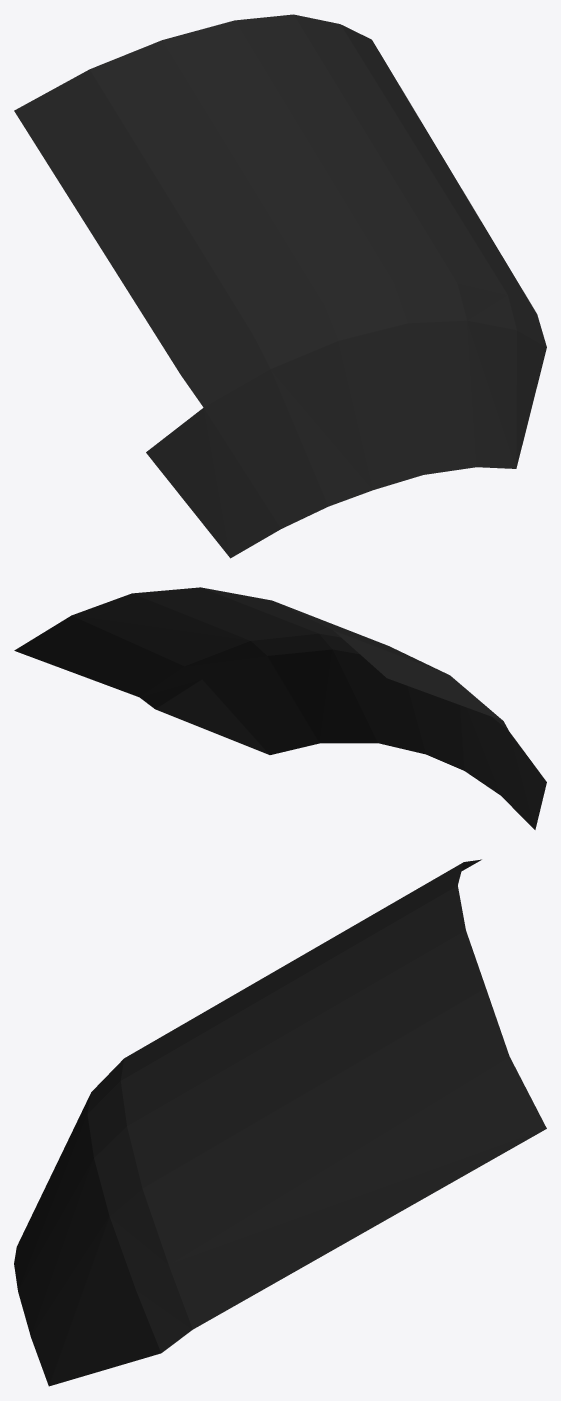
File: T_Lower_Right_2-41811333.glb
The picture shows the model from 3 angles, top to bottom: view 1: azimuth 30°, elevation 25°; view 2: azimuth 150°, elevation 25°; view 3: azimuth 270°, elevation 25°; orthographic projection. The views are drawn at different scales.
Visible parts, largest first — view 1: world; view 2: world; view 3: world.
Boxes of the visible parts, bbox=[...] form: world: bbox=[14, 14, 546, 558]; world: bbox=[14, 587, 546, 829]; world: bbox=[14, 859, 546, 1386].
Bounding box in the file's own units: 0.00136 × 0.00111 × 0.00128.
1 material, 1 textured.
